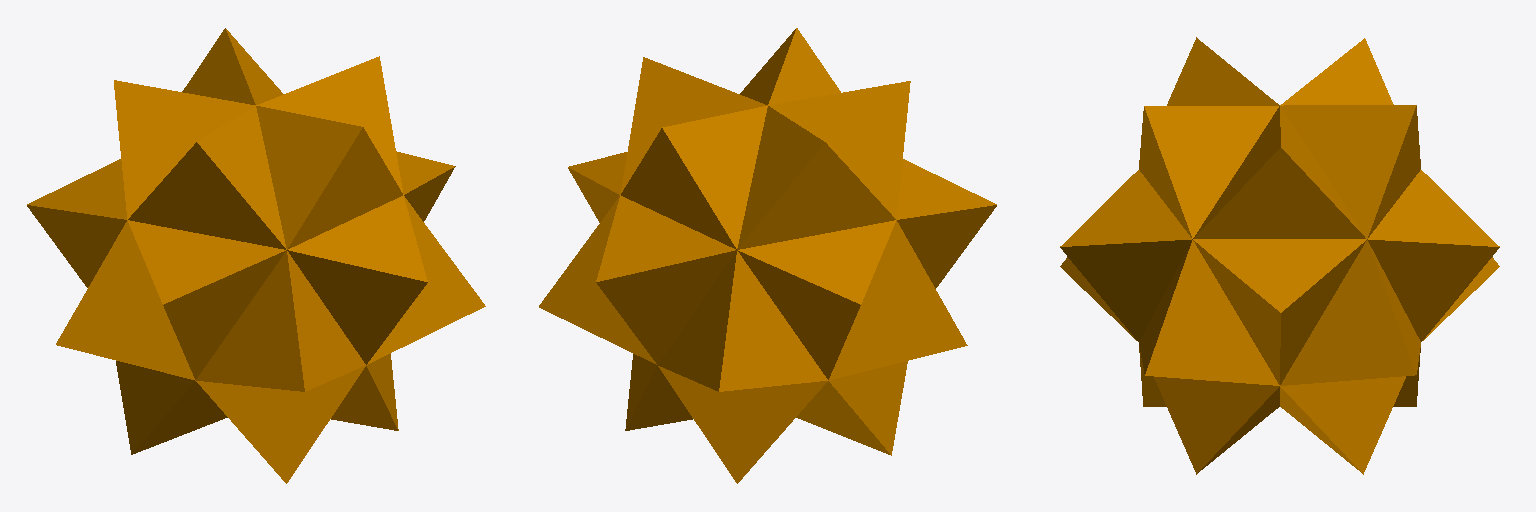
File: starobj.obj
3 views of the same model, side by side, from view 1: azimuth 30°, elevation 25°; view 2: azimuth 150°, elevation 25°; view 3: azimuth 270°, elevation 25° (orthographic).
Visible parts, largest first — view 1: ICO球; view 2: ICO球; view 3: ICO球.
Part boxes in pixels (x1,y1,x2,y2): ICO球: (27, 28, 485, 483); ICO球: (539, 28, 996, 483); ICO球: (1060, 37, 1499, 474).
Size of the model in its own units: 2.79 by 2.25 by 2.65.